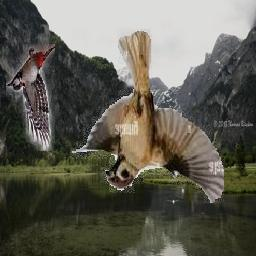Sparrow: (70, 29, 224, 203)
Woodpecker: (7, 45, 56, 152)
